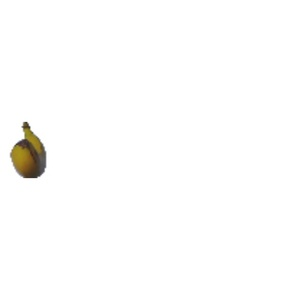banana: (1, 133, 52, 180)
